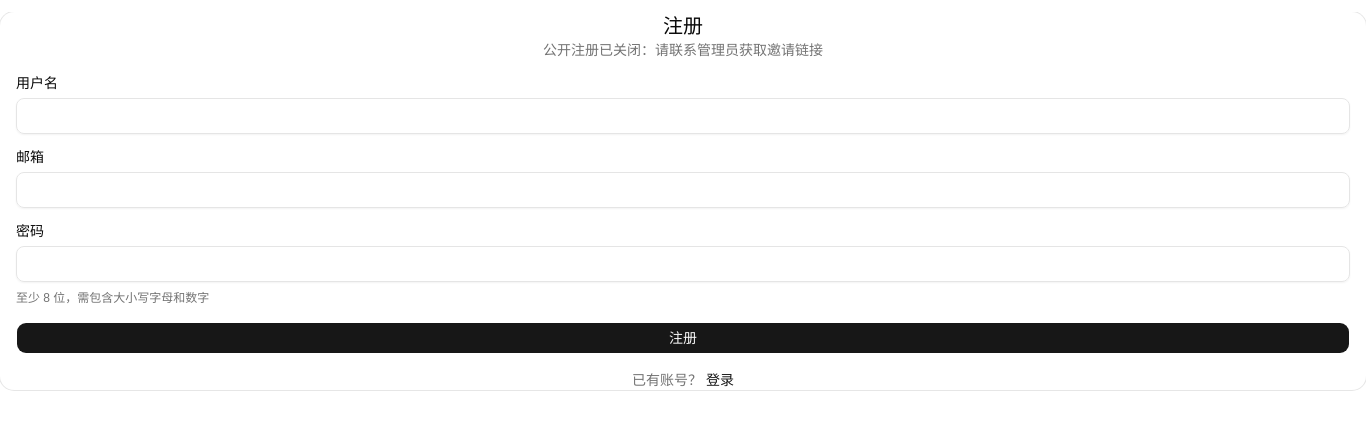
Test: RegisterPage invite flow › shows the closed-registration hint without a token, and the backend error verbatim
This screenshot has width=1366, height=444.
Expected: the text "公开注册已关闭：请联系管理员获取邀请链接" is shown, [543, 42, 823, 58]
Step 1. Type "invitee" into the field labelled "用户名" → (683, 116), box [16, 98, 1350, 134]
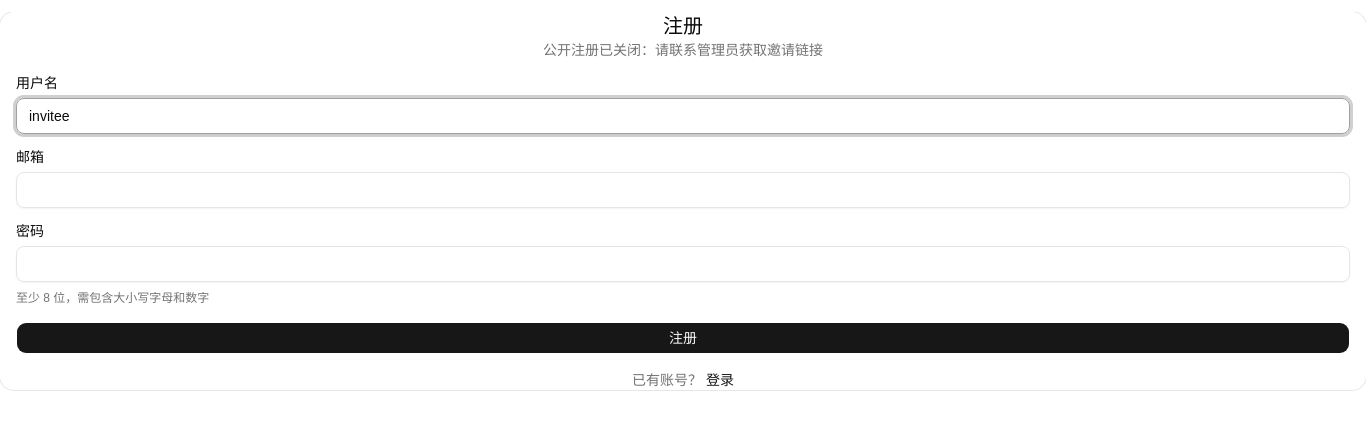
Step 2. Type "invitee@example.com" into the field labelled "邮箱" → (683, 190), box [16, 172, 1350, 208]
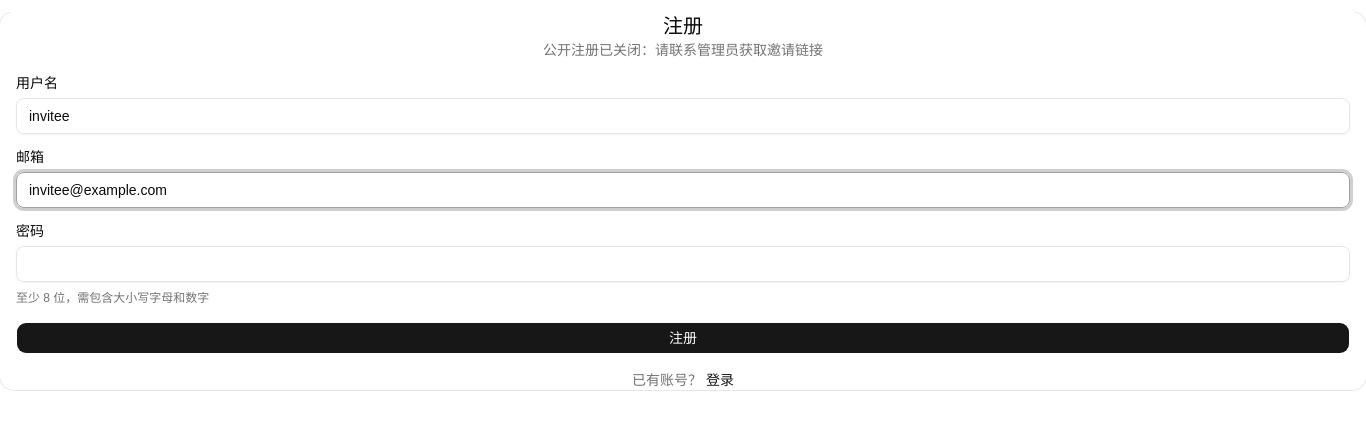
Step 3. Type "Password123" into the password field labelled "密码" → (683, 264), box [16, 246, 1350, 282]
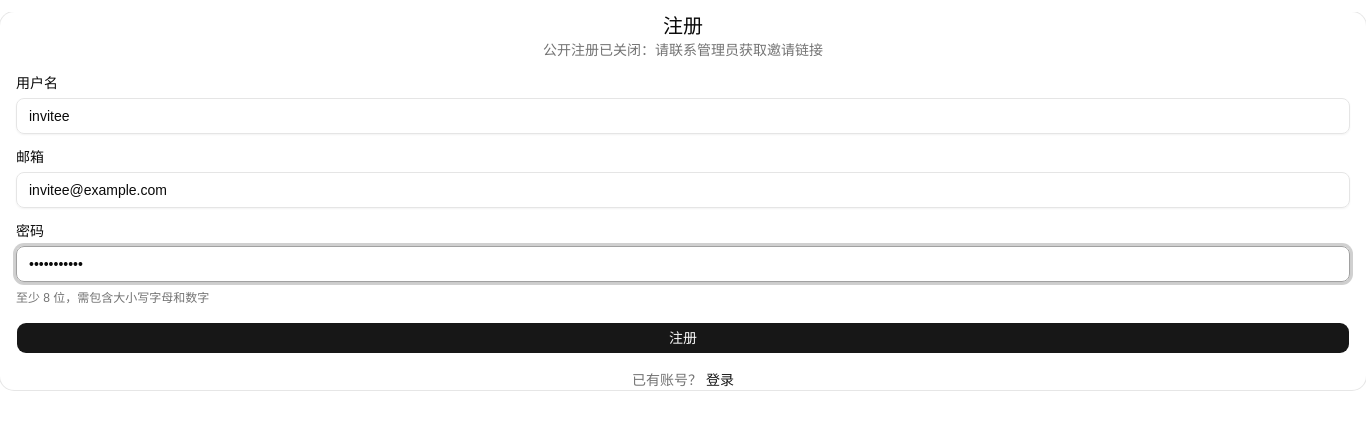
Step 4. Click the button "注册" → (683, 338), box [16, 322, 1350, 354]
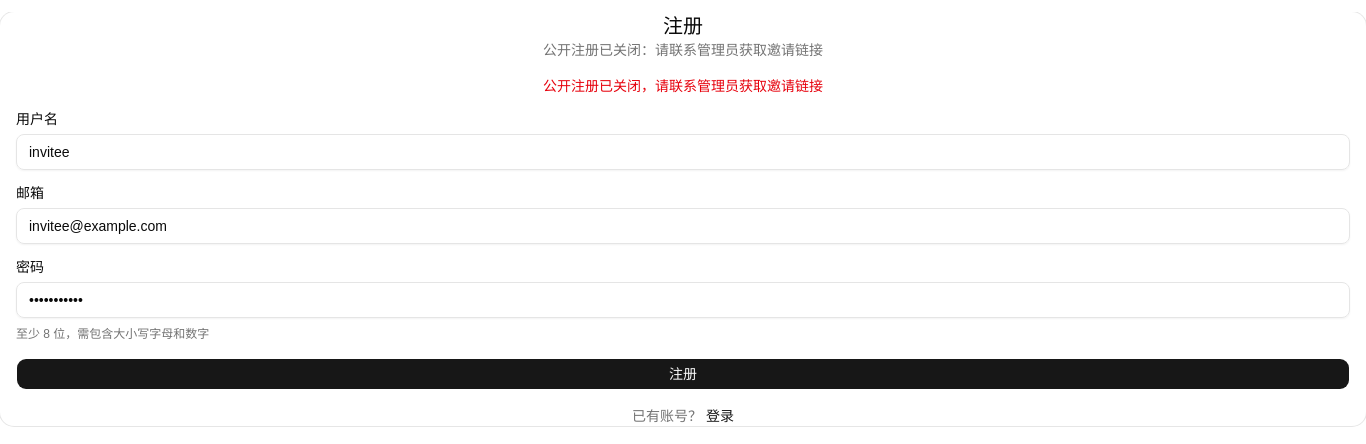
Expected: the text "公开注册已关闭，请联系管理员获取邀请链接" is shown, [543, 78, 823, 94]
